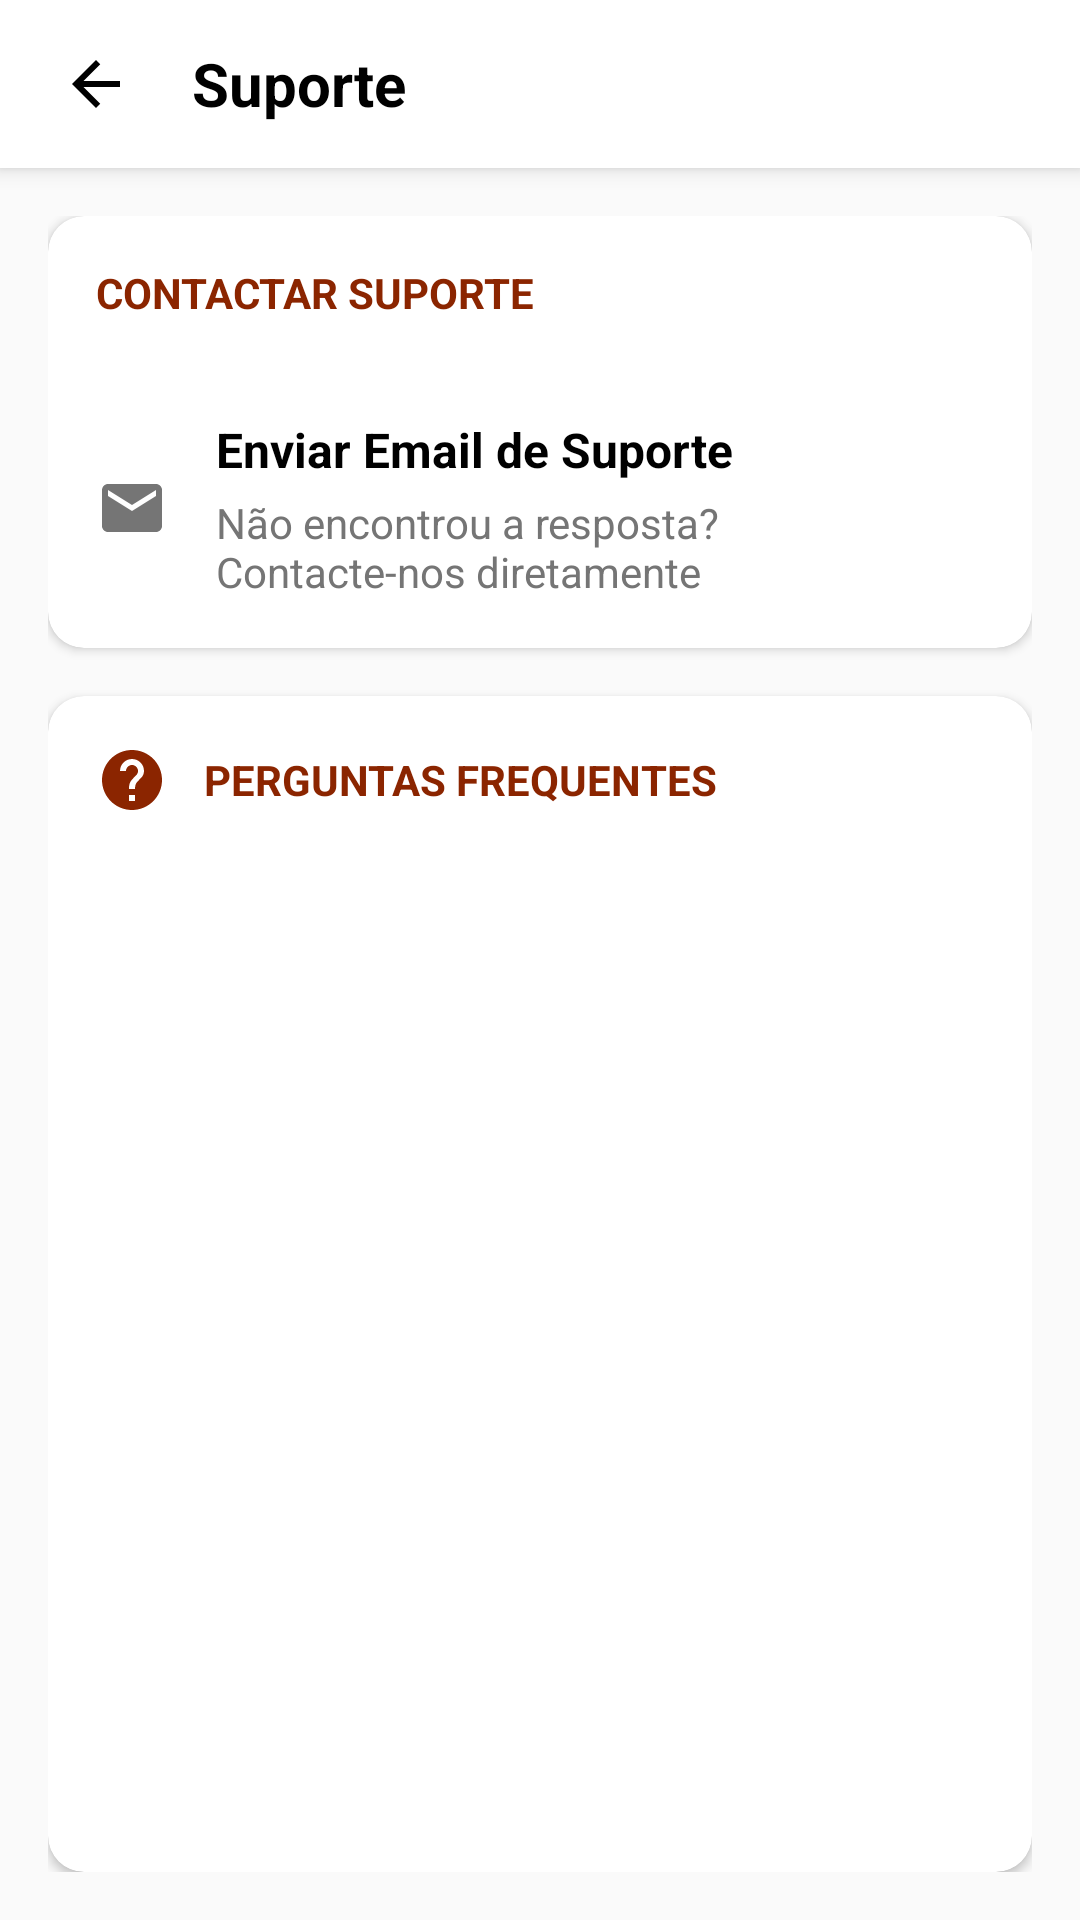

Where icons sit on this 1080 x 1920 app screen, as (left=x1, top=y1, right=x2, bottom=y2):
ajuda: (left=102, top=750, right=162, bottom=810)
Voltar: (left=72, top=60, right=120, bottom=108)
